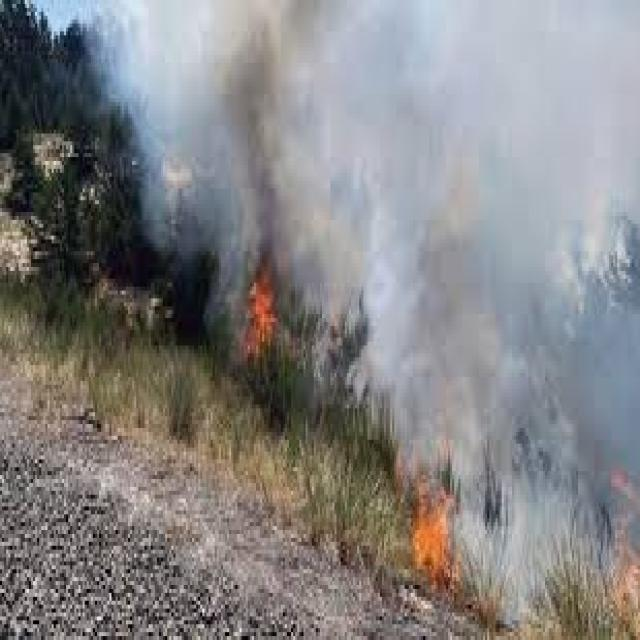Fire: (232, 247, 296, 393), (404, 476, 477, 592)
Smoke: (188, 0, 636, 230), (374, 0, 523, 479), (136, 0, 348, 336)
